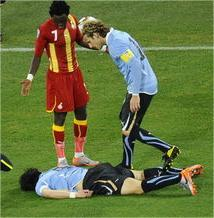bending: (82, 17, 176, 162)
down: (23, 159, 207, 201)
up: (27, 1, 97, 166)
